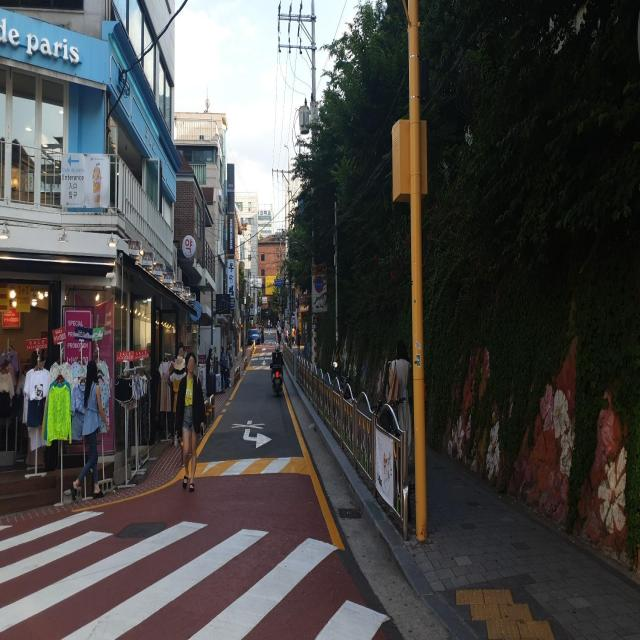횡단보도: (0, 507, 392, 640)
